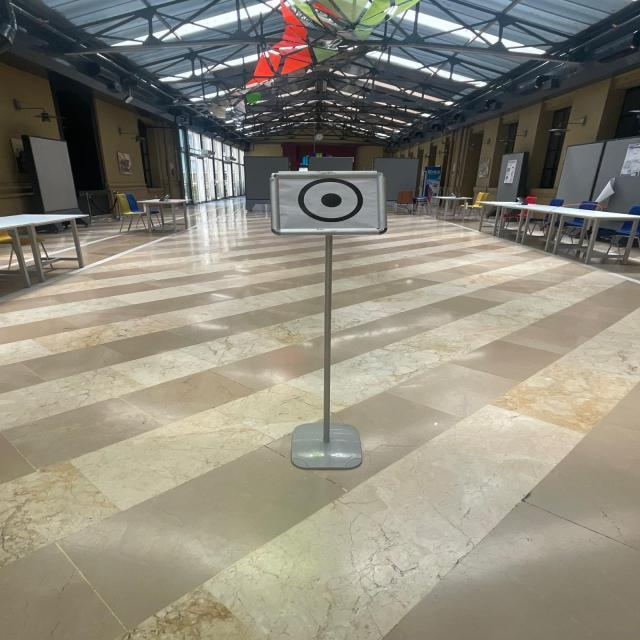Target: (249, 148, 411, 248)
inner: (313, 190, 352, 213)
